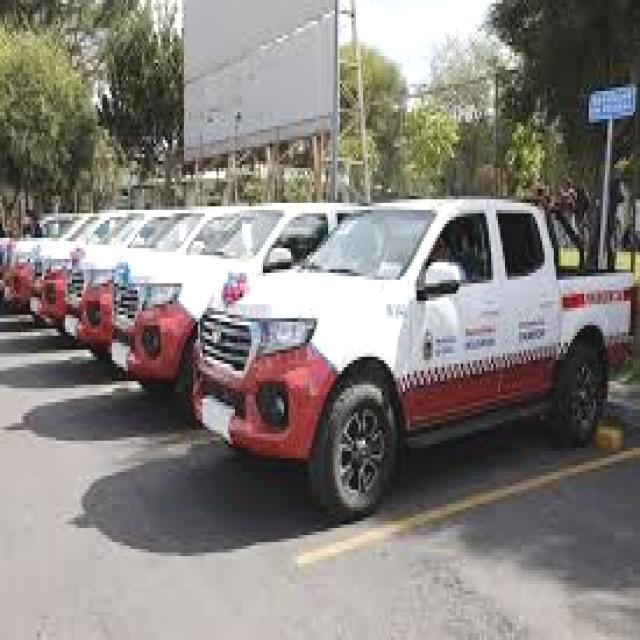CMT: (192, 192, 637, 514)
